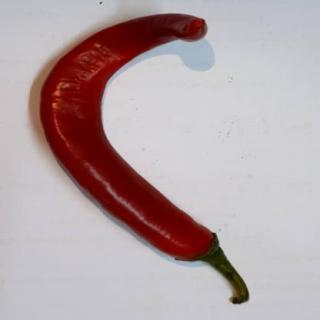Cabai Merah: (35, 13, 255, 308)
